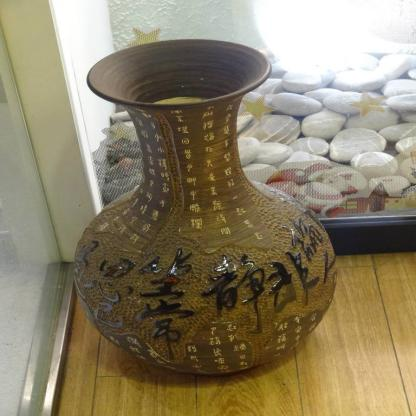vase: (71, 38, 334, 374)
